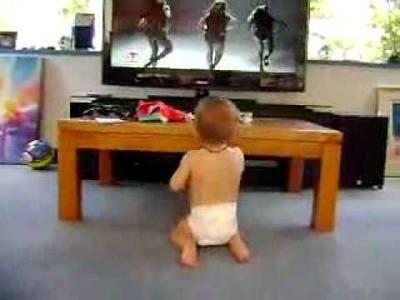person: (168, 96, 253, 268)
